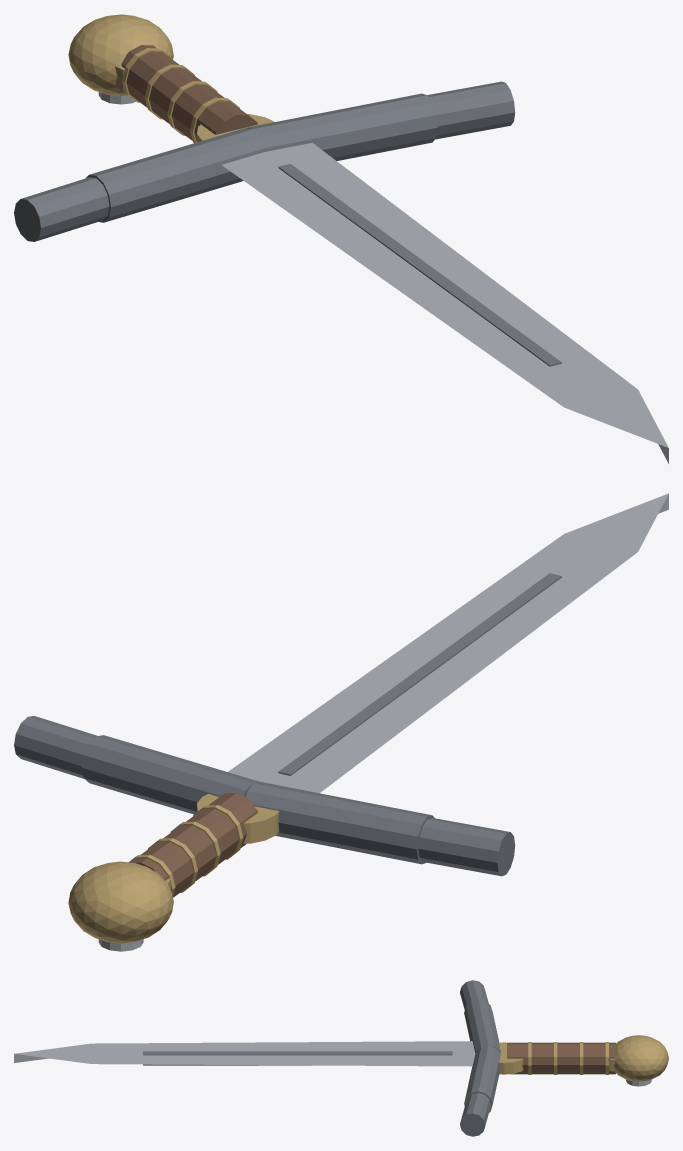
The model's file is medieval_longsword.glb.
The picture shows the model from 3 angles, top to bottom: view 1: azimuth 30°, elevation 25°; view 2: azimuth 150°, elevation 25°; view 3: azimuth 270°, elevation 25°; orthographic projection. The views are drawn at different scales.
Visible parts, largest first — view 1: part_00, part_04, part_05, part_09, part_14, part_03, part_02, part_06; view 2: part_00, part_04, part_05, part_14, part_09, part_03, part_02, part_06, part_07; view 3: part_00, part_09, part_14, part_02, part_05, part_04, part_06, part_03, part_07.
Part boxes in pixels (x1,y1,x2,y2): part_00: [222, 142, 668, 463]; part_04: [86, 128, 264, 222]; part_05: [247, 93, 437, 160]; part_09: [121, 45, 257, 141]; part_14: [68, 14, 173, 96]; part_03: [14, 177, 109, 241]; part_02: [278, 164, 561, 366]; part_06: [427, 81, 515, 139]; part_00: [228, 493, 668, 793]; part_04: [246, 781, 434, 864]; part_05: [82, 735, 258, 814]; part_14: [68, 861, 173, 943]; part_09: [130, 793, 257, 897]; part_03: [418, 818, 515, 876]; part_02: [278, 573, 561, 775]; part_06: [14, 716, 97, 778]; part_07: [197, 794, 279, 843]; part_00: [14, 1041, 475, 1066]; part_09: [507, 1042, 615, 1074]; part_14: [614, 1035, 668, 1081]; part_02: [143, 1051, 452, 1055]; part_05: [464, 1045, 500, 1112]; part_04: [464, 999, 500, 1053]; part_06: [460, 1093, 490, 1136]; part_03: [460, 980, 488, 1009]; part_07: [499, 1042, 523, 1074].
Bounding box in the file's own units: 1.11 × 0.1626 × 2.29.
